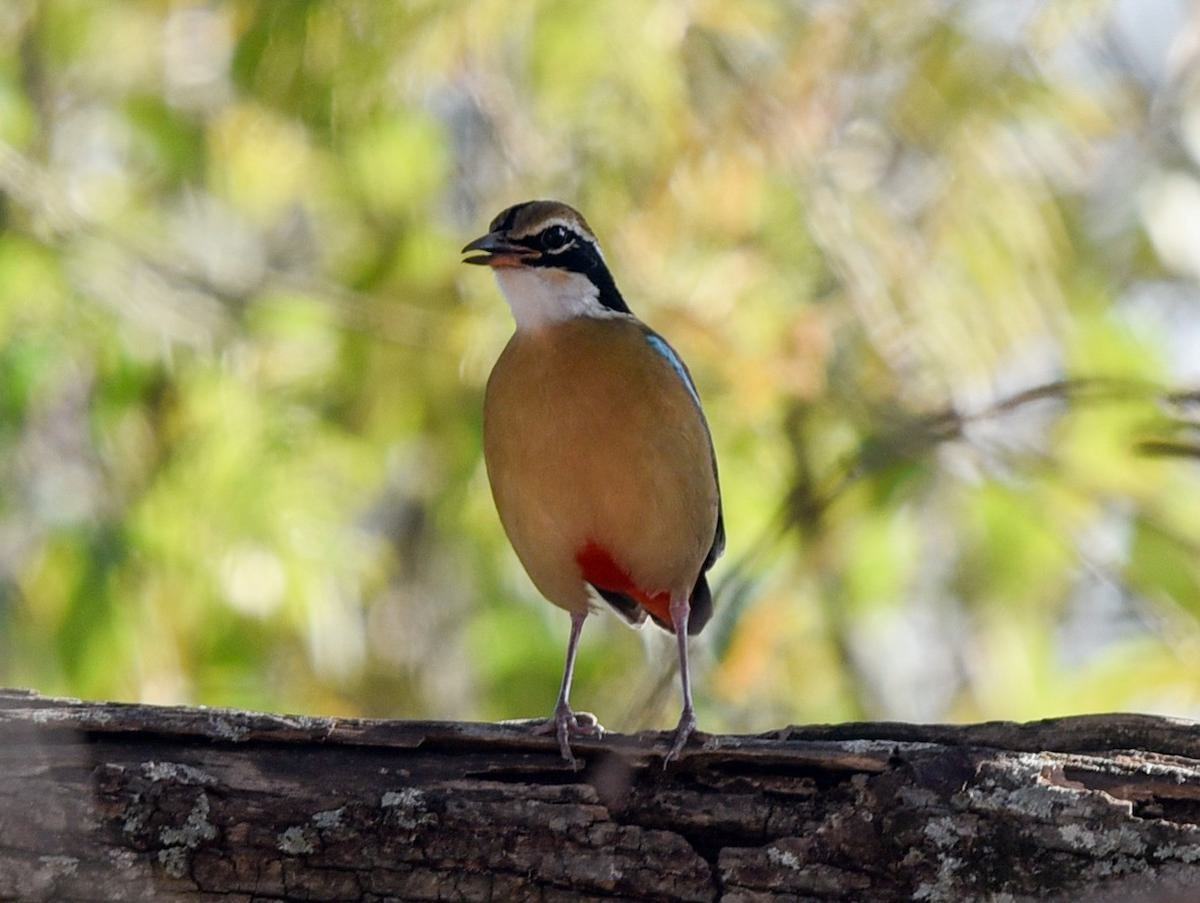pitta: (429, 187, 760, 704)
